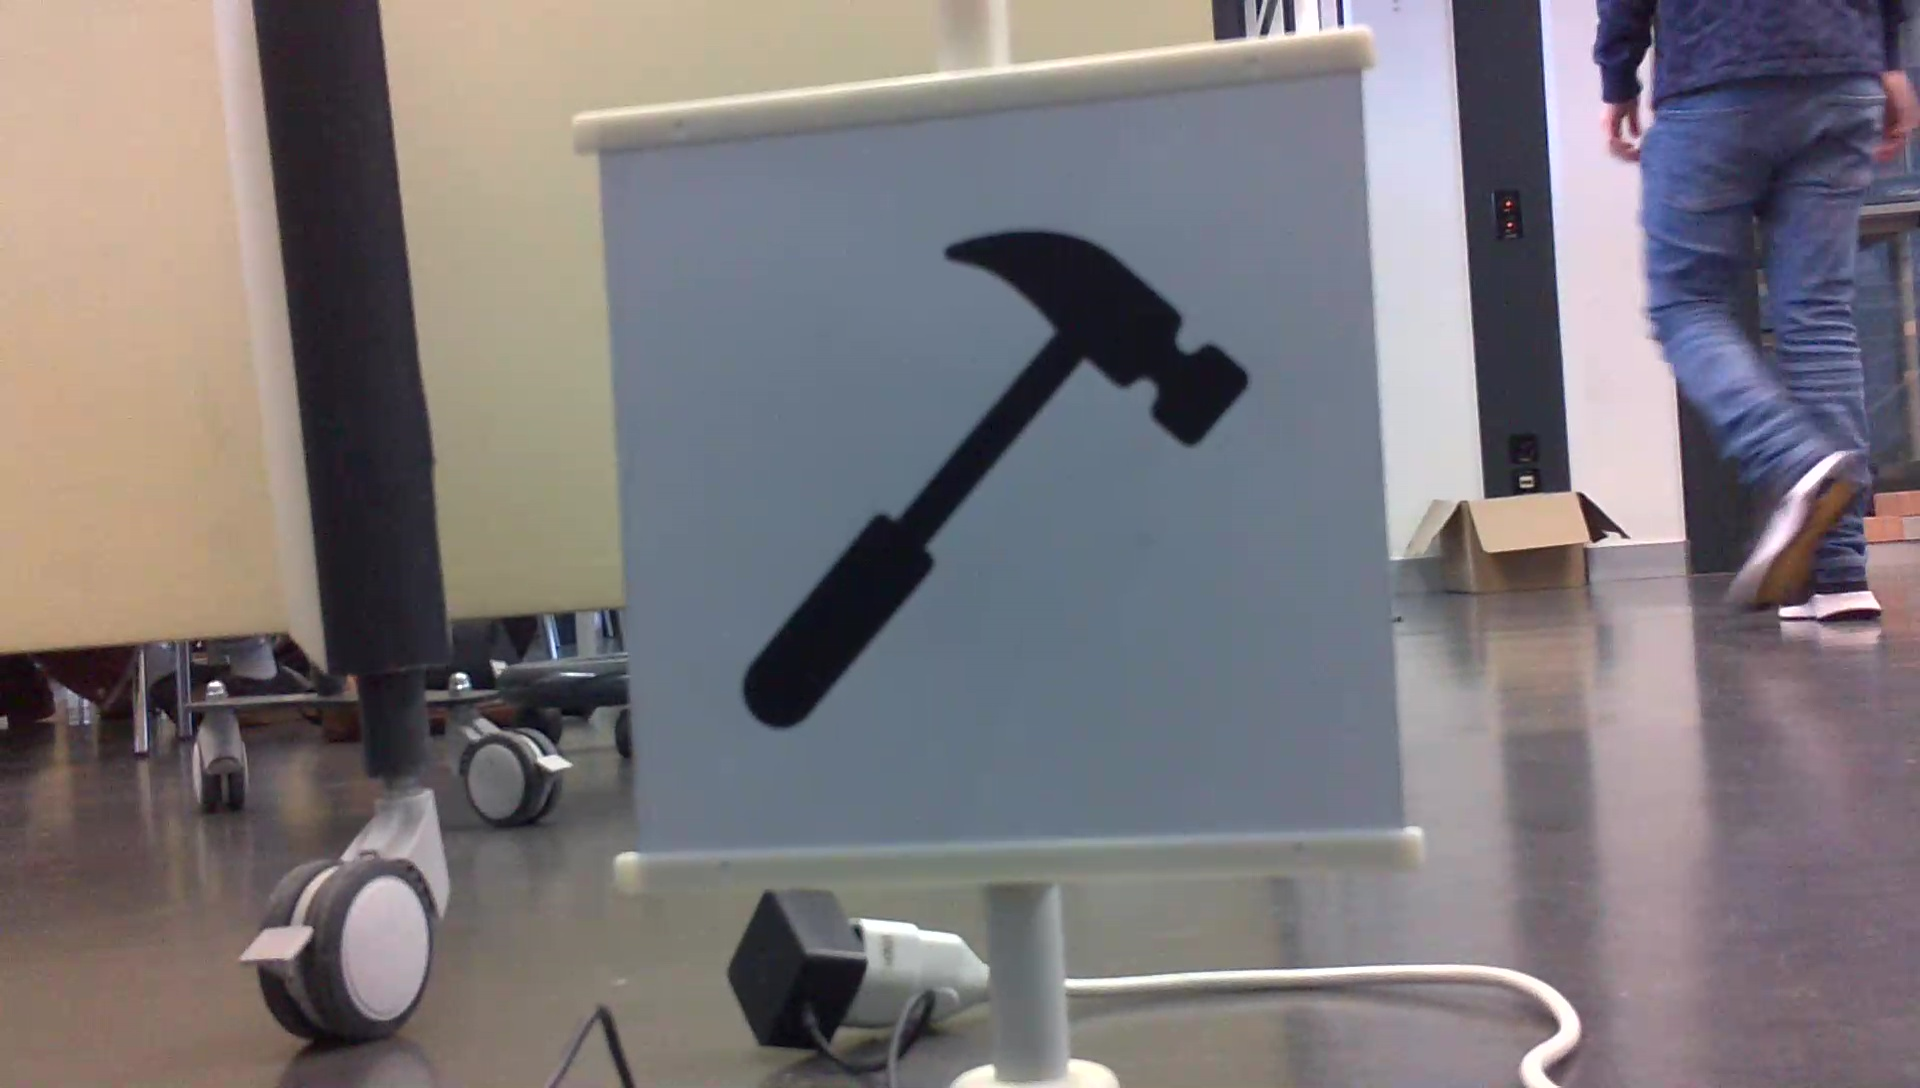hammer: (725, 214, 1261, 746)
